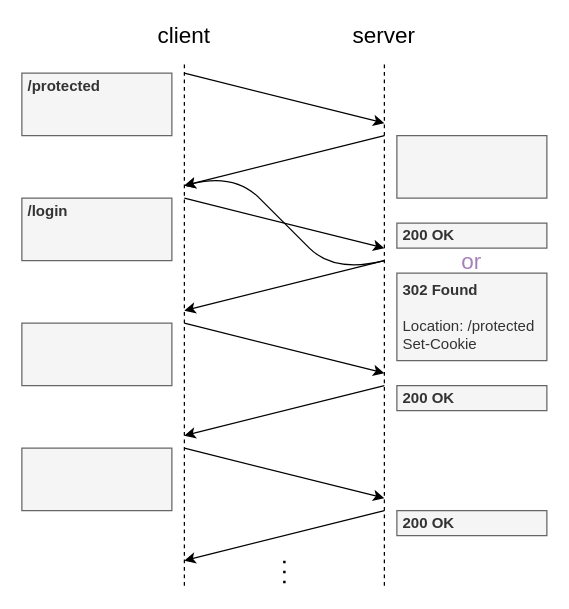
The diagram is 569 pixels wide and 609 high, and some of its shapes have lost their labels. Each missing label, with the centre of its shape:
/protected Cookie: the point at 96,354
/protectedtoo Cookie: the point at 96,479
302 Found Location: /login: the point at 471,166
